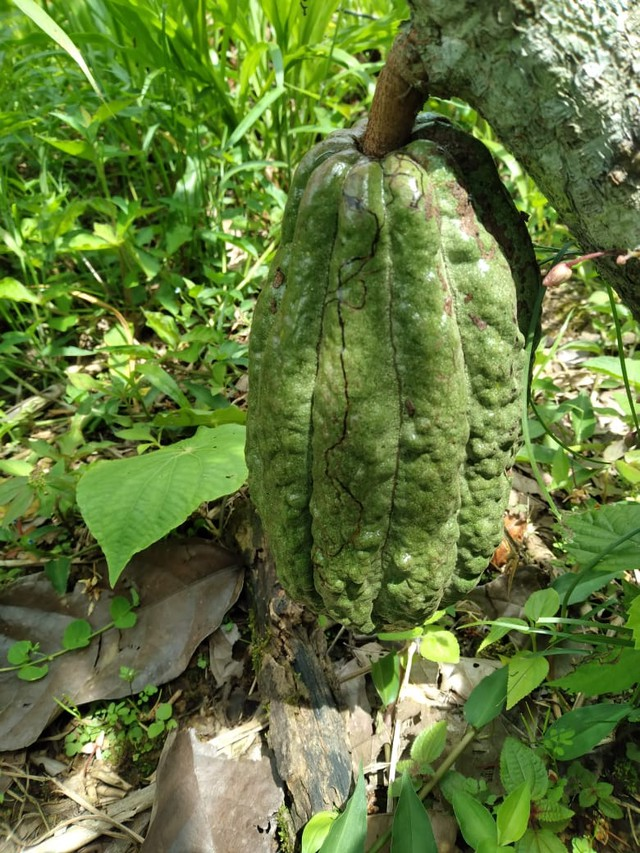Health: (223, 106, 539, 639)
